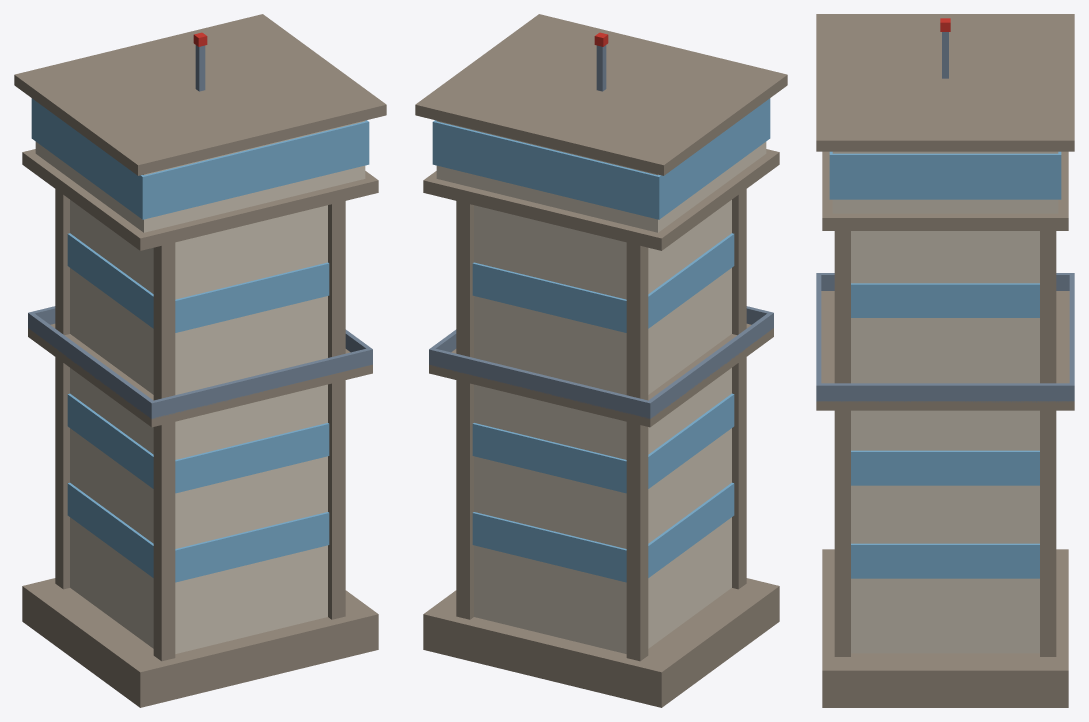
The model's file is raceControlTower.glb.
3 views of the same model, side by side, from view 1: azimuth 30°, elevation 25°; view 2: azimuth 150°, elevation 25°; view 3: azimuth 270°, elevation 25° (orthographic). The views are drawn at different scales.
Parts seen in each view (by area): view 1: raceControlTower_concreteDark, raceControlTower_concrete, raceControlTower_glass, raceControlTower_steel; view 2: raceControlTower_concreteDark, raceControlTower_concrete, raceControlTower_glass, raceControlTower_steel; view 3: raceControlTower_concreteDark, raceControlTower_concrete, raceControlTower_glass, raceControlTower_steel.
Boxes of the visible parts, x1,y1,x2,y2 form: raceControlTower_concreteDark: (14,14,386,707); raceControlTower_concrete: (35,120,365,653); raceControlTower_glass: (31,98,369,582); raceControlTower_steel: (28,45,372,419); raceControlTower_concreteDark: (415,14,787,707); raceControlTower_concrete: (436,120,766,653); raceControlTower_glass: (432,98,770,582); raceControlTower_steel: (429,45,773,419); raceControlTower_concreteDark: (816,14,1074,707); raceControlTower_concrete: (832,151,1058,653); raceControlTower_glass: (829,151,1061,578); raceControlTower_steel: (816,32,1074,402).
Size of the model in its own units: 14.6 by 33.7 by 12.6.
